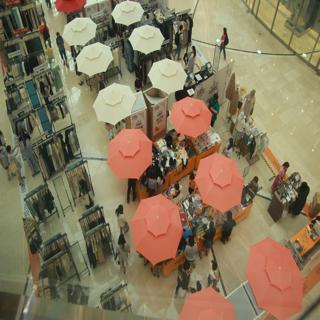person: (113, 198, 131, 241), (181, 228, 199, 269), (275, 157, 293, 196), (221, 210, 236, 249), (219, 22, 235, 56)
